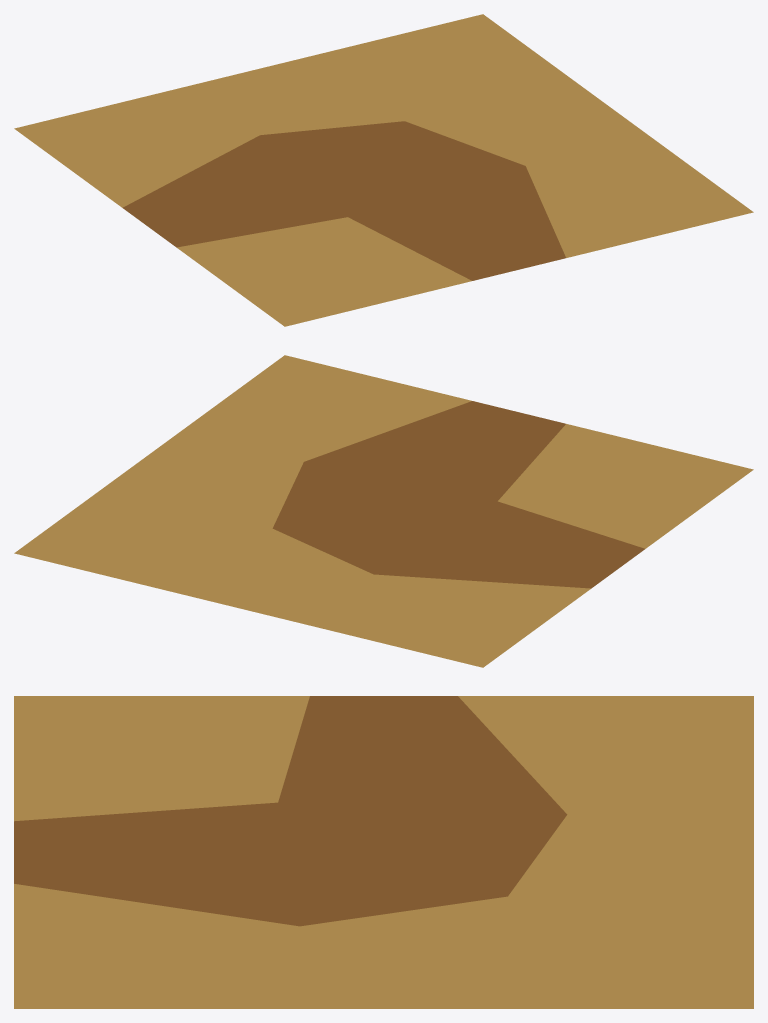
Rendered from SA_Env_Sand_Corner2.fbx.
3 renders of one model, top to bottom at view 1: azimuth 30°, elevation 25°; view 2: azimuth 150°, elevation 25°; view 3: azimuth 270°, elevation 25°, orthographic. The views are drawn at different scales.
Parts seen in each view (by area): view 1: SA_Env_Sand_Corner2; view 2: SA_Env_Sand_Corner2; view 3: SA_Env_Sand_Corner2.
Boxes of the visible parts, x1=… form: SA_Env_Sand_Corner2: x1=14, y1=14, x2=753, y2=326; SA_Env_Sand_Corner2: x1=14, y1=355, x2=753, y2=667; SA_Env_Sand_Corner2: x1=14, y1=696, x2=753, y2=1008.
Bounding box in the file's own units: 15 × 0 × 15.
